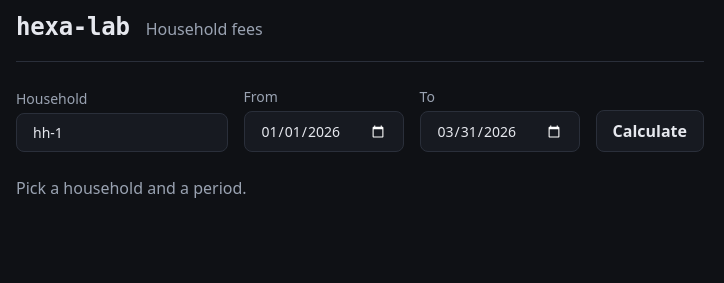
Test case: error: a rejected fetch shows NETWORK_ERROR without crashing
Click the button "Calculate". click: (650, 131)
box: [596,110,704,152]
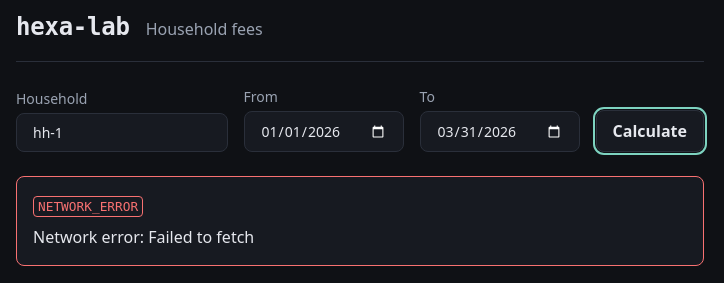
Expected: the text "NETWORK_ERROR" is shown, [33,196,143,217]
Expected: the text "Network error: Failed to fetch" is shown, [33,226,254,248]
